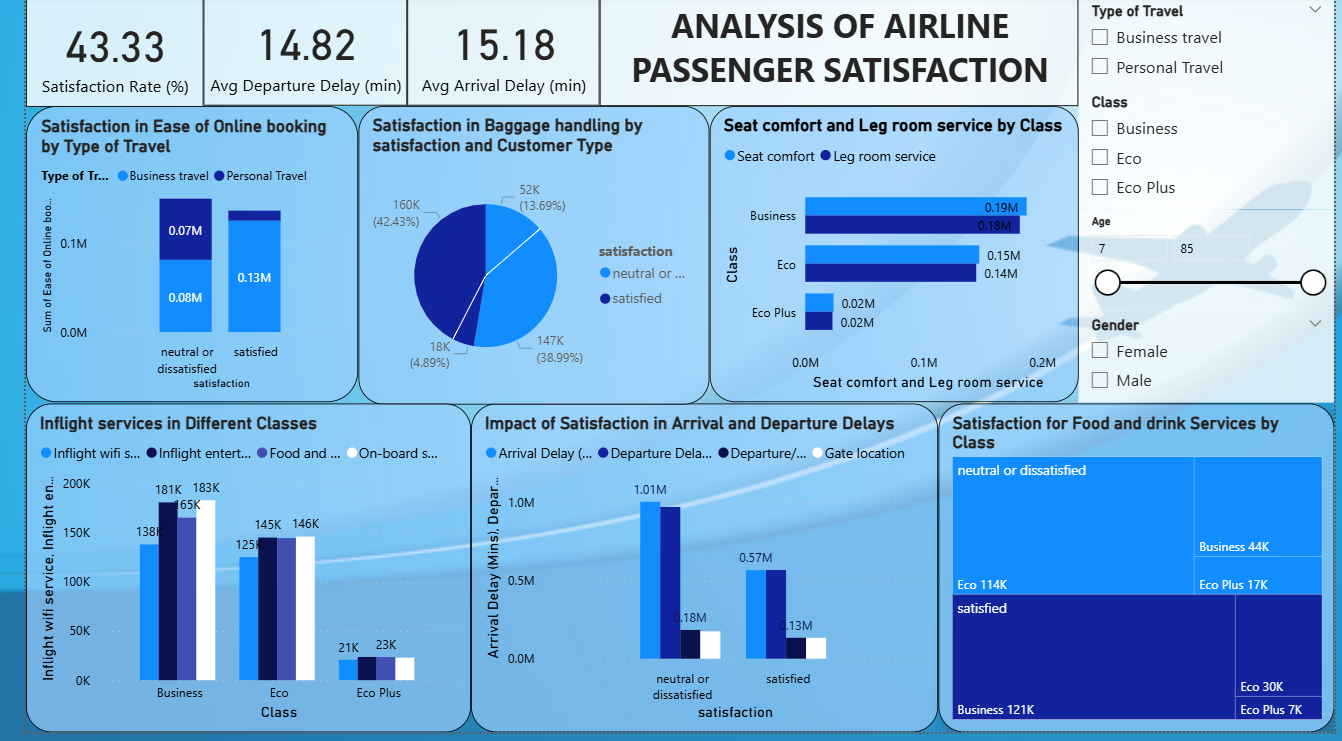

The dashboard page shown, as its layout file describes it:
{"tool":"powerbi","page":{"name":"Dashboard","canvas":[1280,720],"ordinal":0},"visuals":[{"type":"clusteredColumnChart","title":"Impact of Satisfaction in Arrival and Departure Delays ","fields":{"Category":["train.satisfaction"],"Y":["Sum(train.Arrival Delay in Minutes)","Sum(train.Departure Delay in Minutes)","Sum(train.Departure/Arrival time convenient)","Sum(train.Gate location)"]},"box":[435.2,398.5,457.2,321.5],"z":0},{"type":"treemap","title":"Satisfaction for Food and drink Services by Class","fields":{"Group":["train.satisfaction"],"Values":["Sum(train.Food and drink)"],"Details":["train.Class"]},"box":[892.4,398.5,387.5,321.5],"z":1000},{"type":"columnChart","title":"Satisfaction in Ease of Online booking by Type of Travel","fields":{"Category":["train.satisfaction"],"Y":["Sum(train.Ease of Online booking)"],"Series":["train.Type of Travel"]},"box":[0,107.6,325.2,289.7],"z":2000},{"type":"pieChart","title":"Satisfaction in Baggage handling by satisfaction and Customer Type","fields":{"Category":["train.satisfaction"],"Y":["Sum(train.Baggage handling)"],"Series":["train.Customer Type"]},"box":[325.2,107.6,343.5,292.2],"z":3000},{"type":"clusteredColumnChart","title":"Inflight services in Different Classes","fields":{"Category":["train.Class"],"Y":["Sum(train.Inflight wifi service)","Sum(train.Inflight entertainment)","Sum(train.Food and drink)","Sum(train.On-board service)"]},"box":[0,398.5,435.2,321.5],"z":4000},{"type":"slicer","fields":{"Values":["train.Gender"]},"box":[1029.3,308,250.6,89.2],"z":5000},{"type":"slicer","fields":{"Values":["train.Class"]},"box":[1029.3,90.5,250.6,118.6],"z":6000},{"type":"slicer","fields":{"Values":["train.Type of Travel"]},"box":[1029.3,1.2,250.6,89.2],"z":7000},{"type":"slicer","fields":{"Values":["train.Age"]},"box":[1029.3,209,250.6,99],"z":8000},{"type":"clusteredBarChart","fields":{"Category":["train.Class"],"Y":["Sum(train.Seat comfort)","Sum(train.Leg room service)"]},"box":[668.7,107.6,360.6,289.7],"z":9000},{"type":"card","fields":{"Values":["train.Satisfaction Rate (%)"]},"box":[0,1.2,173.6,107.6],"z":10000},{"type":"card","fields":{"Values":["train.Avg Departure Delay"]},"box":[173.6,0,199.3,107.6],"z":11000},{"type":"card","fields":{"Values":["train.Avg Arrival Delay (min)"]},"box":[372.8,0,188.3,107.6],"z":12000},{"type":"textbox","box":[561.1,1.2,468.2,106.3],"z":13000}]}

Visuals, with their boxes in screenshot pixels (x1, y1, x2, y2), scaled from the page's 1280x720 canvas onto the 1342x741 screenshot:
"Impact of Satisfaction in Arrival and Departure Delays " clusteredColumnChart: 456, 410, 936, 740
"Satisfaction for Food and drink Services by Class" treemap: 936, 410, 1341, 740
"Satisfaction in Ease of Online booking by Type of Travel" columnChart: 0, 111, 341, 409
"Satisfaction in Baggage handling by satisfaction and Customer Type" pieChart: 341, 111, 701, 411
"Inflight services in Different Classes" clusteredColumnChart: 0, 410, 456, 740
slicer - train.Gender: 1079, 317, 1341, 409
slicer - train.Class: 1079, 93, 1341, 215
slicer - train.Type of Travel: 1079, 1, 1341, 93
slicer - train.Age: 1079, 215, 1341, 317
clusteredBarChart - train.Class x Sum(train.Seat comfort): 701, 111, 1079, 409
card - train.Satisfaction Rate (%): 0, 1, 182, 112
card - train.Avg Departure Delay: 182, 0, 391, 111
card - train.Avg Arrival Delay (min): 391, 0, 588, 111
textbox: 588, 1, 1079, 111
